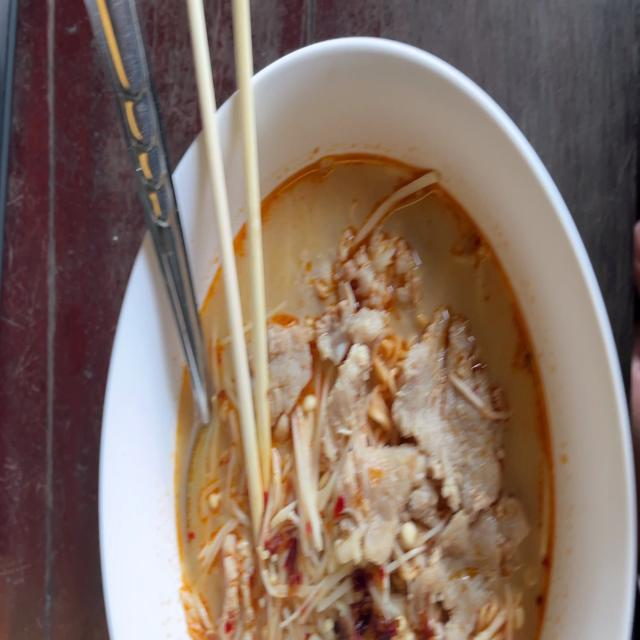noodle: (170, 144, 564, 640)
